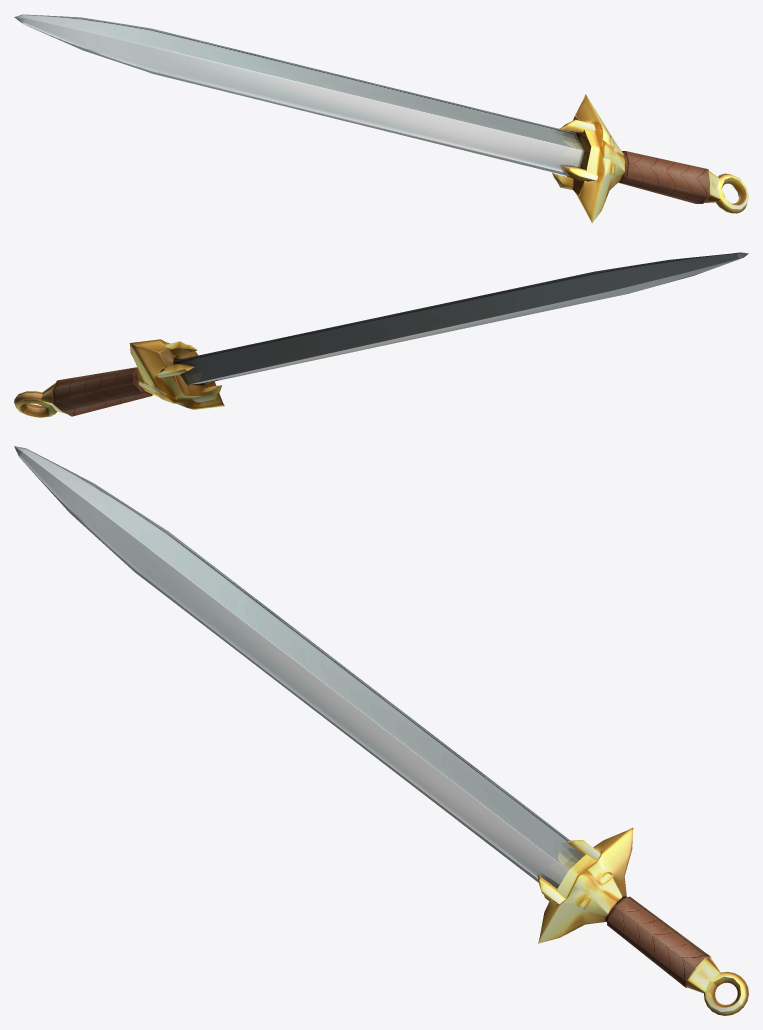
Rendered from MulanEspada.fbx.
3 views of the same model, one above another, from view 1: azimuth 30°, elevation 25°; view 2: azimuth 150°, elevation 25°; view 3: azimuth 330°, elevation 25° (orthographic). The views are drawn at different scales.
Parts seen in each view (by area): view 1: MulanSword; view 2: MulanSword; view 3: MulanSword.
Boxes of the visible parts, <box> form: MulanSword: <box>14,14,748,223</box>; MulanSword: <box>14,252,748,417</box>; MulanSword: <box>14,446,748,1015</box>.
Bounding box in the file's own units: 964 × 446 × 113.
